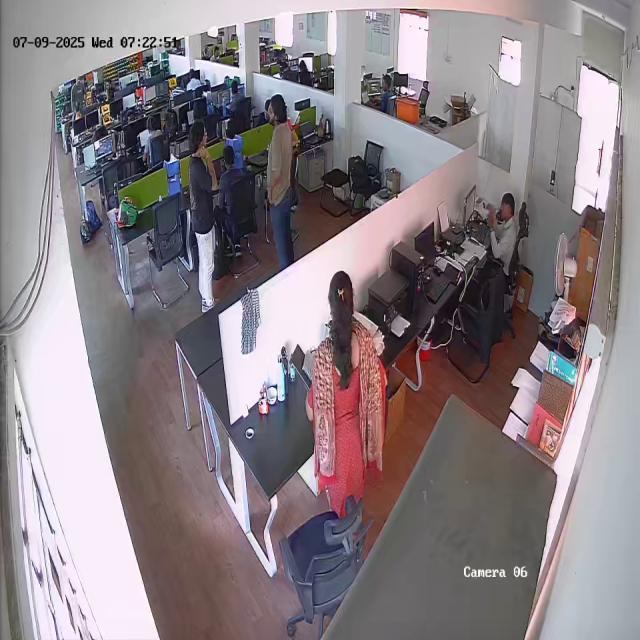person: (310, 270, 383, 519), (262, 93, 300, 270), (186, 119, 219, 312), (489, 192, 519, 265)
